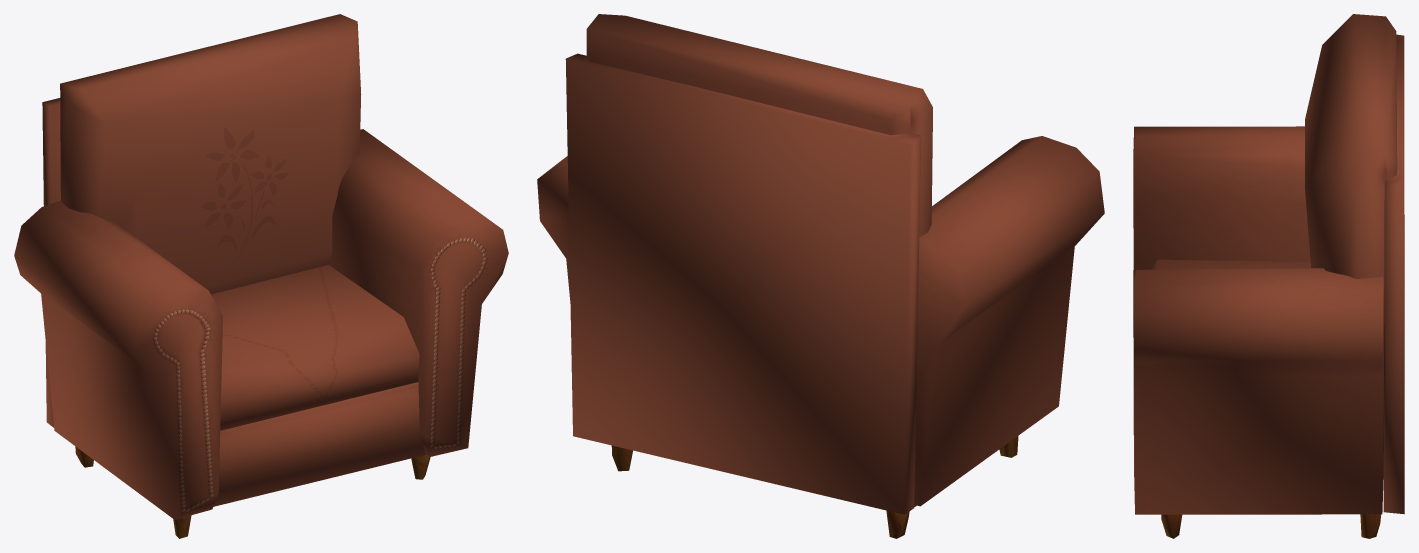
File: armchair3.fbx
3 views of the same model, side by side, from view 1: azimuth 30°, elevation 25°; view 2: azimuth 150°, elevation 25°; view 3: azimuth 270°, elevation 25° (orthographic). The views are drawn at different scales.
Parts seen in each view (by area): view 1: Sofa_Base_Mesh:sofa_4; view 2: Sofa_Base_Mesh:sofa_4; view 3: Sofa_Base_Mesh:sofa_4.
Part boxes in pixels (x1,y1,x2,y2): Sofa_Base_Mesh:sofa_4: (14,14,508,538); Sofa_Base_Mesh:sofa_4: (537,14,1104,538); Sofa_Base_Mesh:sofa_4: (1133,14,1404,538).
Bounding box in the file's own units: 133 × 131 × 81.36.
Materials: 4 (4 with a texture image).
